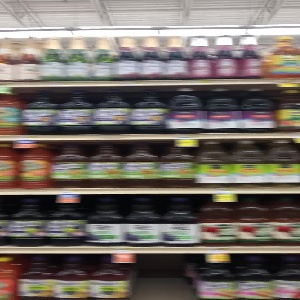void: (132, 252, 195, 300)
